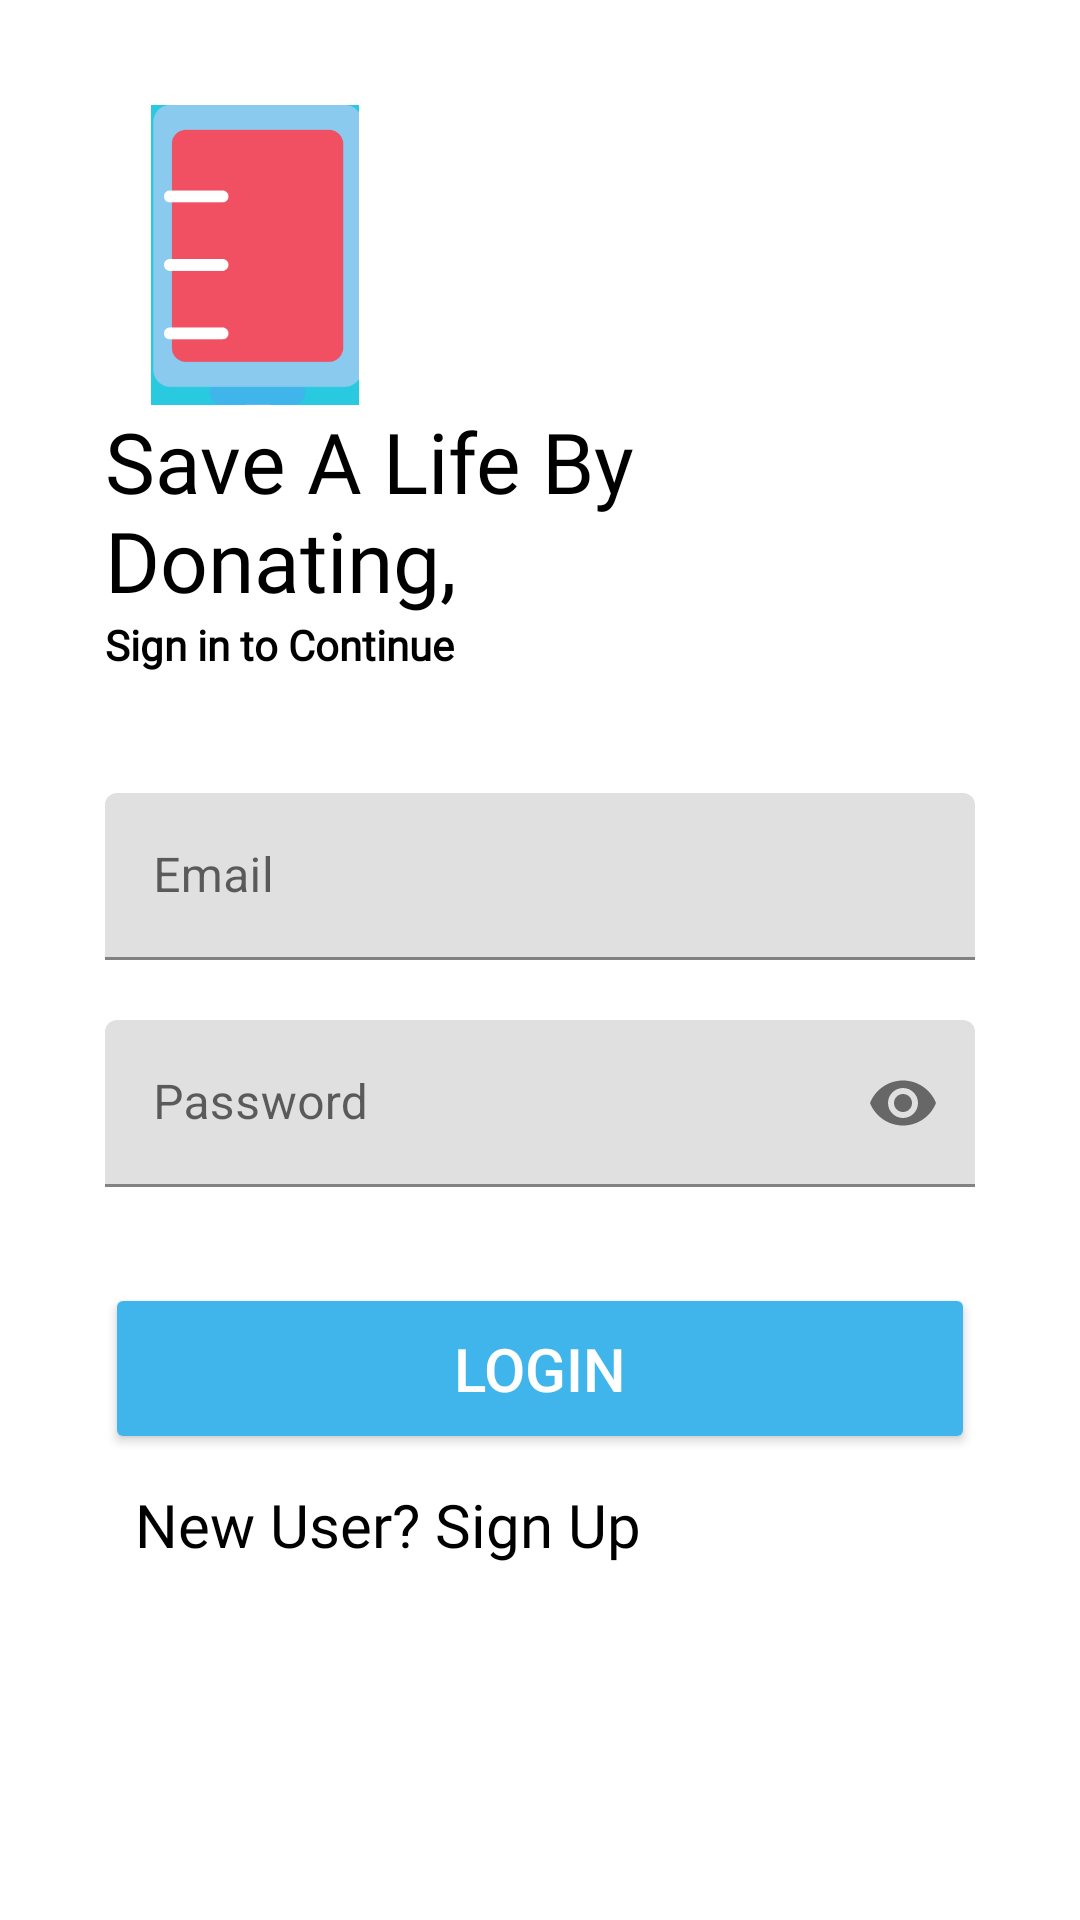

Where icons sit on this 1080 x 1920 app screen, as (x1, y1, x2, y2):
blood: (151, 105, 359, 405)
